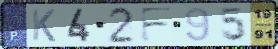2: (108, 5, 136, 45)
4: (66, 7, 93, 43)
5: (219, 6, 248, 43)
9: (184, 6, 212, 43)
F: (138, 6, 175, 44)
K: (30, 8, 57, 43)
